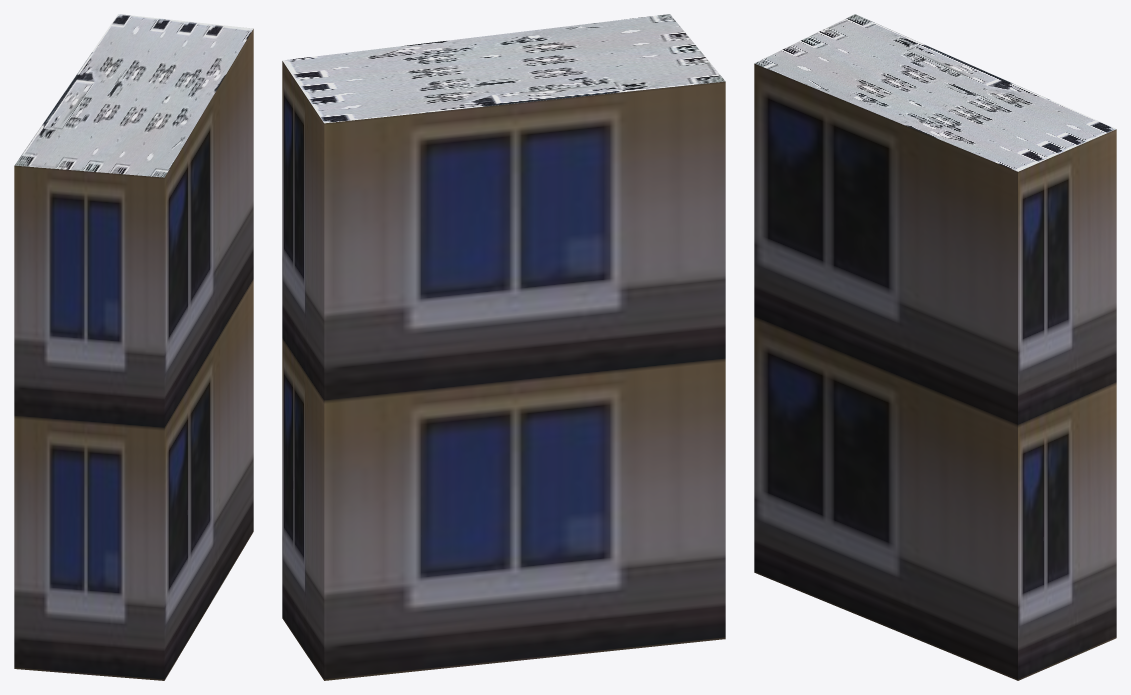
File: ResTex__2300.fbx
3 views of the same model, side by side, from view 1: azimuth 30°, elevation 25°; view 2: azimuth 150°, elevation 25°; view 3: azimuth 270°, elevation 25° (orthographic). The views are drawn at different scales.
Visible parts, largest first — view 1: CityEngineMaterial_5_m, CityEngineMaterial_m; view 2: CityEngineMaterial_5_m, CityEngineMaterial_m; view 3: CityEngineMaterial_5_m, CityEngineMaterial_m.
Boxes of the visible parts, box(x1,y1,x2,y2) form: CityEngineMaterial_5_m: box(14, 29, 253, 680); CityEngineMaterial_m: box(14, 14, 253, 177); CityEngineMaterial_5_m: box(282, 61, 725, 680); CityEngineMaterial_m: box(282, 14, 725, 123); CityEngineMaterial_5_m: box(754, 63, 1116, 680); CityEngineMaterial_m: box(754, 14, 1116, 171).
Bounding box in the file's own units: 3.99 × 6 × 3.87.
Materials: 2 (2 with a texture image).
